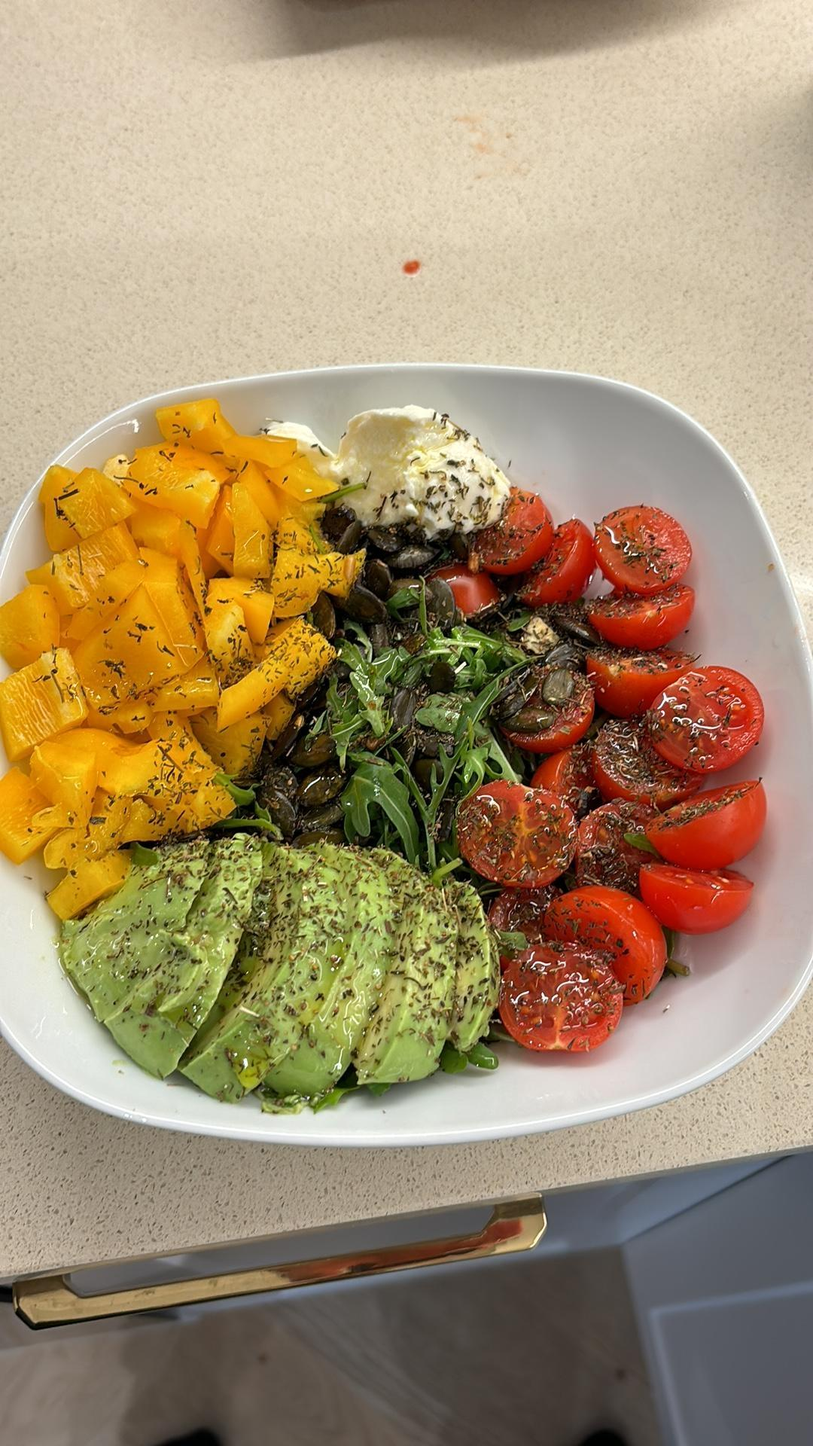avocado: (75, 828, 490, 1101)
bell pepper: (27, 731, 198, 808), (88, 586, 180, 712), (216, 635, 330, 729), (52, 526, 138, 626), (122, 445, 236, 517), (50, 802, 167, 871), (0, 647, 75, 750), (138, 508, 217, 589), (58, 467, 139, 530), (204, 572, 264, 653), (172, 401, 237, 457), (1, 772, 42, 860), (272, 544, 323, 612), (233, 485, 270, 571), (232, 419, 288, 466)
lettuce: (406, 590, 542, 676), (415, 713, 488, 851), (332, 742, 424, 850), (326, 628, 407, 749)
tomato: (548, 891, 664, 998), (507, 941, 617, 1053), (465, 780, 574, 886), (652, 660, 760, 762), (658, 783, 768, 865), (599, 718, 697, 801), (601, 502, 684, 589), (586, 636, 684, 709), (579, 805, 658, 892), (642, 868, 732, 933), (511, 679, 590, 751), (477, 482, 544, 566), (583, 588, 693, 638), (537, 515, 590, 599), (531, 761, 603, 813), (423, 570, 509, 613)
